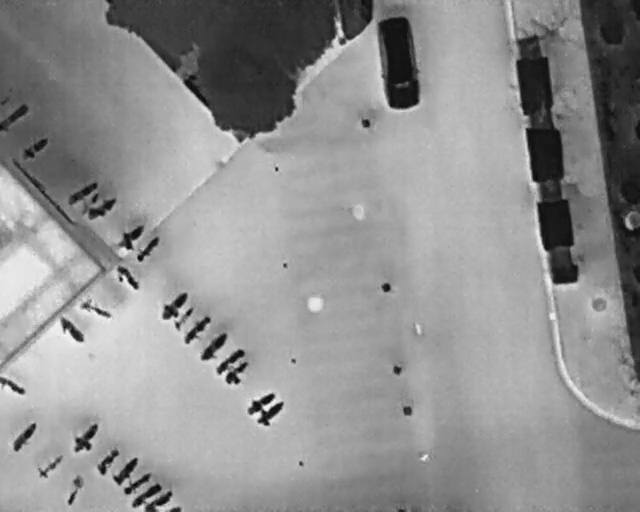Bicycle: (67, 417, 108, 459), (154, 285, 195, 326), (195, 327, 235, 367), (50, 309, 89, 350), (251, 394, 292, 432), (111, 219, 153, 256), (107, 259, 146, 298), (241, 384, 281, 421), (178, 311, 216, 349), (31, 446, 69, 484), (14, 130, 54, 166), (7, 416, 43, 456), (81, 192, 122, 226), (109, 453, 146, 490), (58, 468, 90, 510), (219, 354, 256, 390), (75, 293, 117, 323), (213, 344, 250, 378), (63, 177, 102, 209), (119, 467, 156, 499), (128, 479, 165, 511), (168, 301, 202, 335), (131, 233, 163, 266), (93, 444, 125, 476), (0, 103, 29, 129), (143, 489, 172, 510), (0, 375, 26, 396)
Car: (369, 12, 426, 113)
